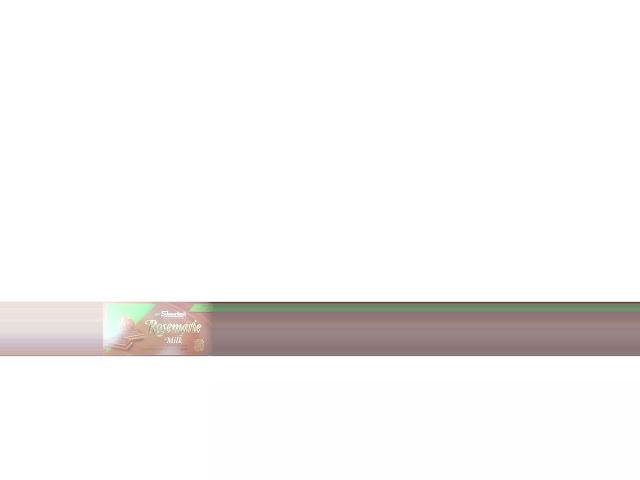chocolate: (104, 303, 214, 355)
